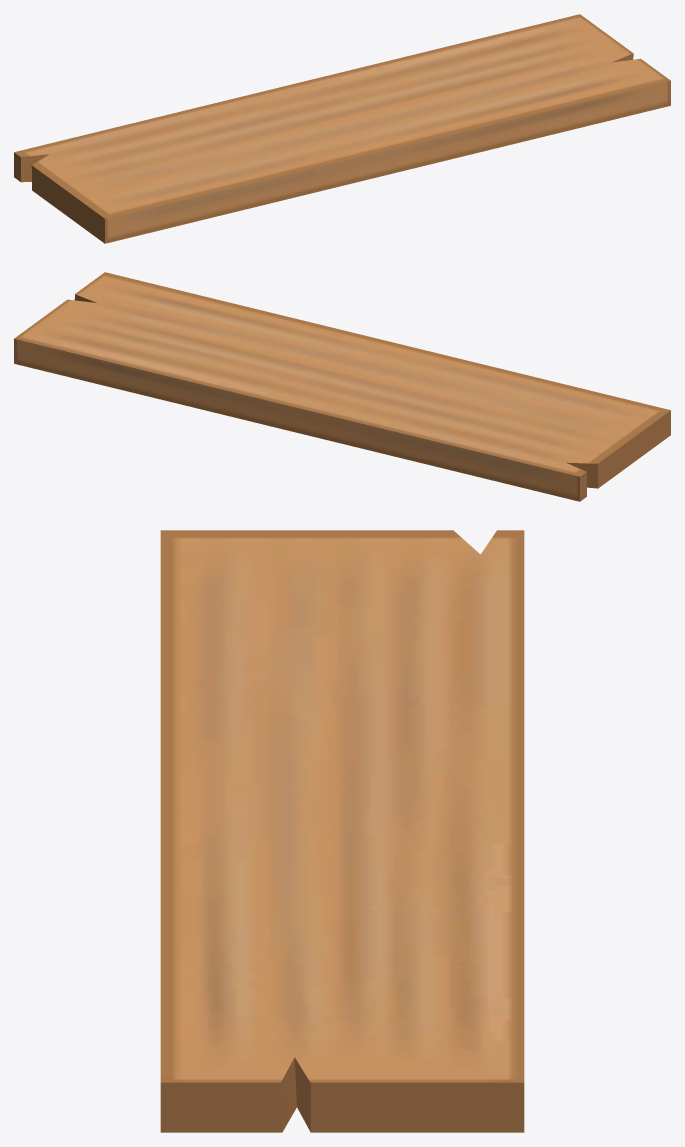
Rendered from Swing.fbx.
The picture shows the model from 3 angles, top to bottom: view 1: azimuth 30°, elevation 25°; view 2: azimuth 150°, elevation 25°; view 3: azimuth 270°, elevation 25°; orthographic projection. The views are drawn at different scales.
Parts seen in each view (by area): view 1: Seat; view 2: Seat; view 3: Seat.
Part boxes in pixels (box(x1,y1,x2,y2)): Seat: box(14, 14, 670, 243); Seat: box(14, 272, 670, 501); Seat: box(160, 530, 524, 1132).
Bounding box in the file's own units: 1.67 × 0.0706 × 0.4654.
